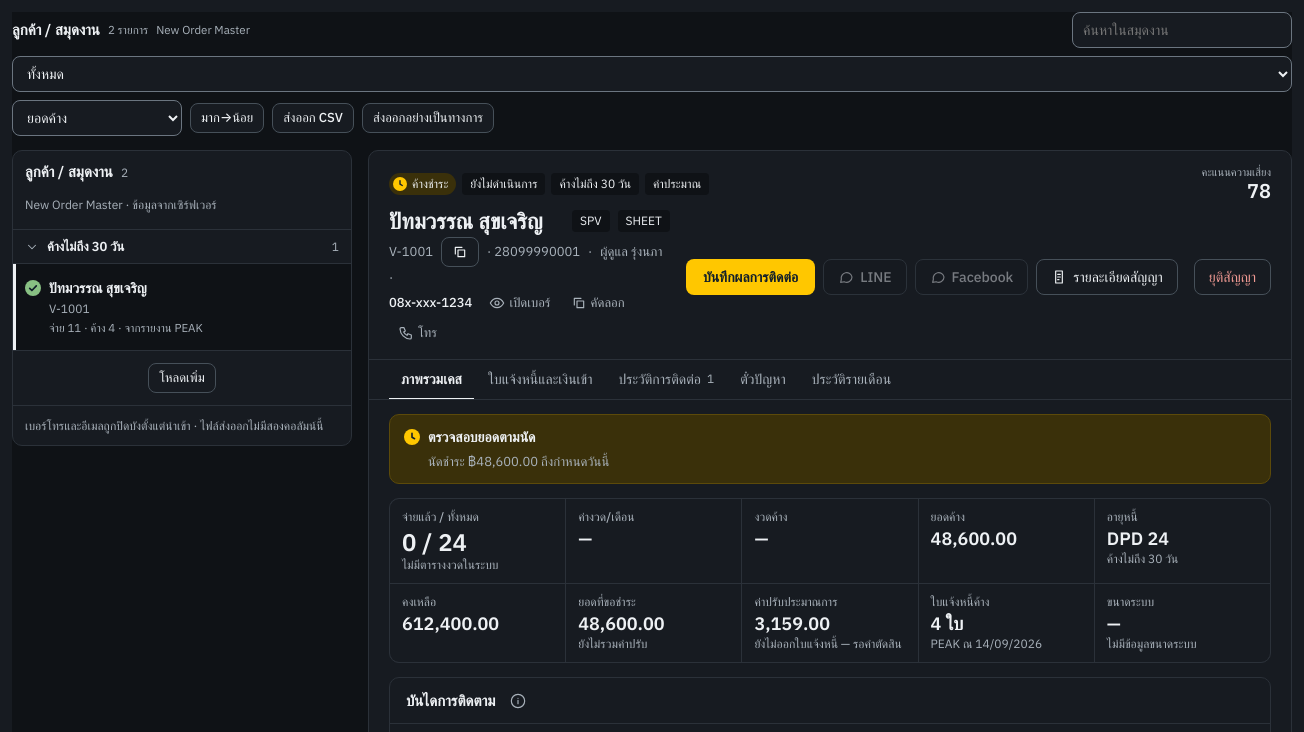
Test case: Book › loads the next cursor page and appends it without losing the first page
Expected: the text "ปัทมวรรณ สุขเจริญ" is shown, [49, 278, 147, 298]
Click the button "โหลดเพิ่ม" at x=182, y=378, box [148, 363, 216, 393]
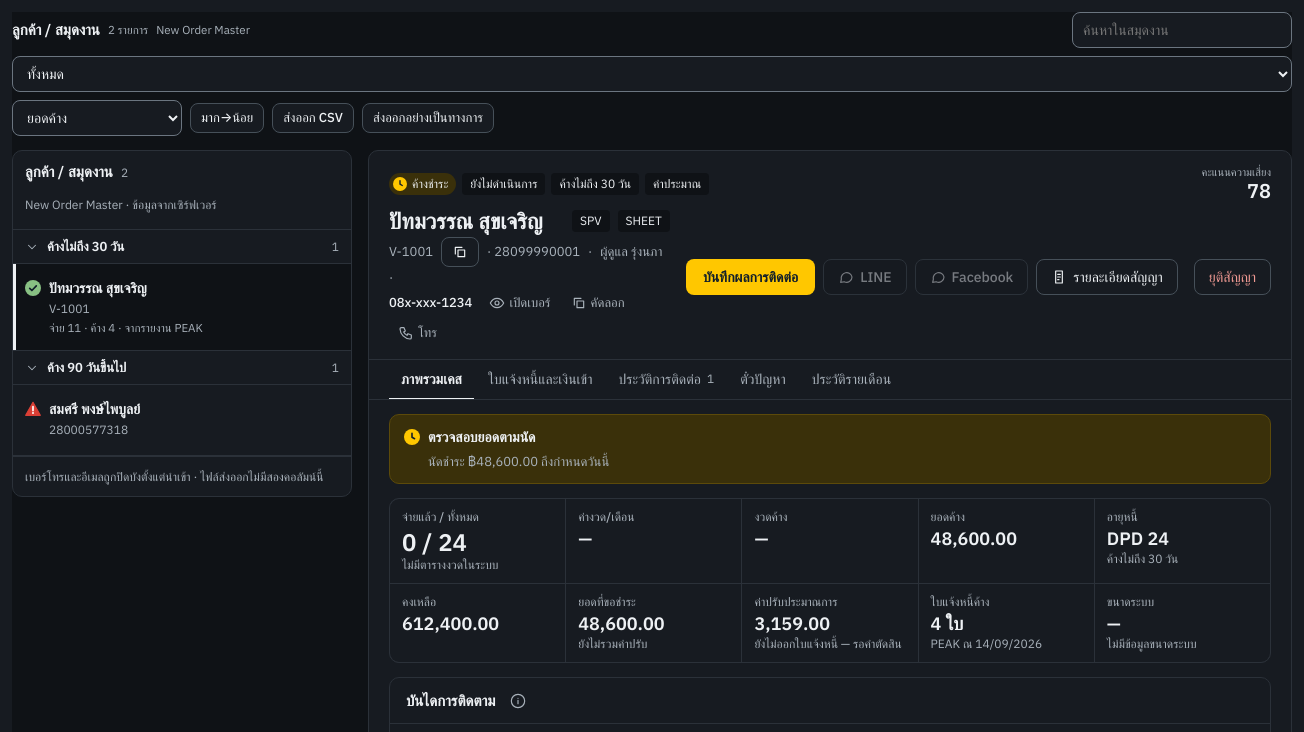
Expected: the text "ปัทมวรรณ สุขเจริญ" is shown, [49, 278, 147, 298]
Now the text "สมศรี พงษ์ไพบูลย์" is shown, box [49, 399, 140, 419]
